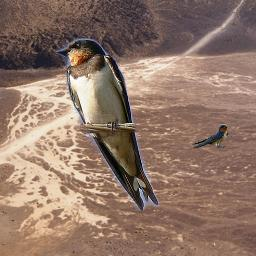Swallow: (55, 38, 159, 211), (186, 124, 229, 149)
